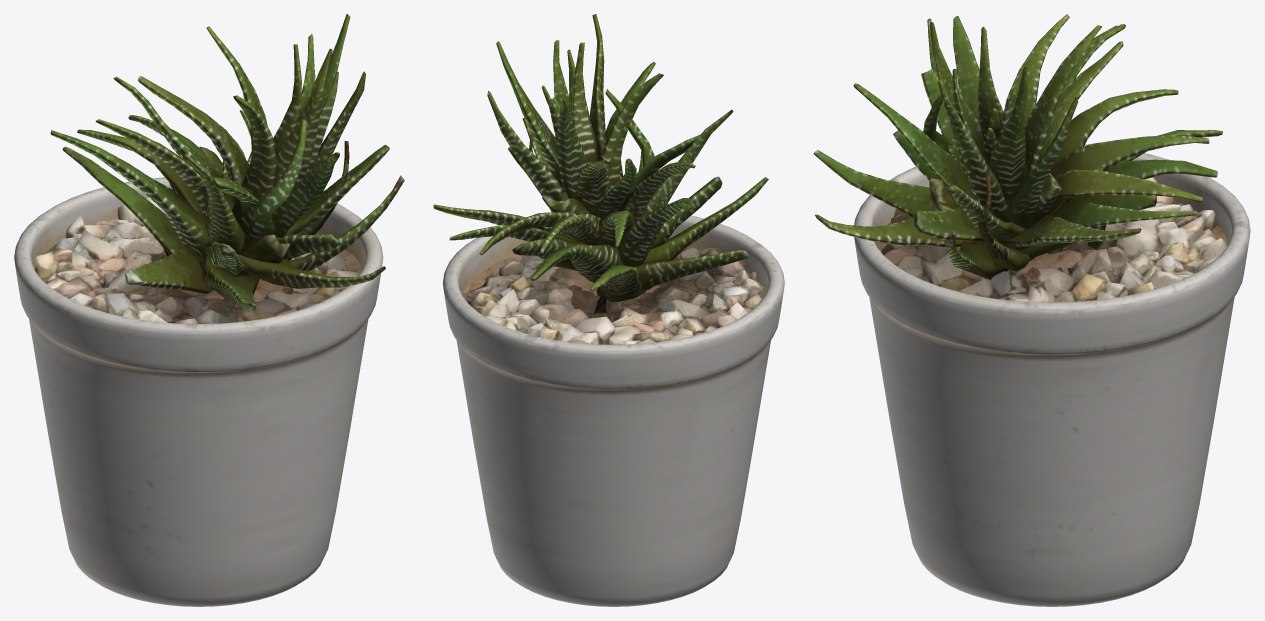
File: potted_plant_04.glb
The picture shows the model from 3 angles, left to right: view 1: azimuth 30°, elevation 25°; view 2: azimuth 150°, elevation 25°; view 3: azimuth 270°, elevation 25°; orthographic projection. The views are drawn at different scales.
Parts seen in each view (by area): view 1: potted_plant_04_ground; view 2: potted_plant_04_ground; view 3: potted_plant_04_ground.
Part boxes in pixels (x1,y1,x2,y2): potted_plant_04_ground: [14, 14, 404, 606]; potted_plant_04_ground: [433, 14, 784, 606]; potted_plant_04_ground: [813, 14, 1250, 606].
Size of the model in its own units: 0.1679 by 0.2675 by 0.1848.
1 material, 1 textured.
